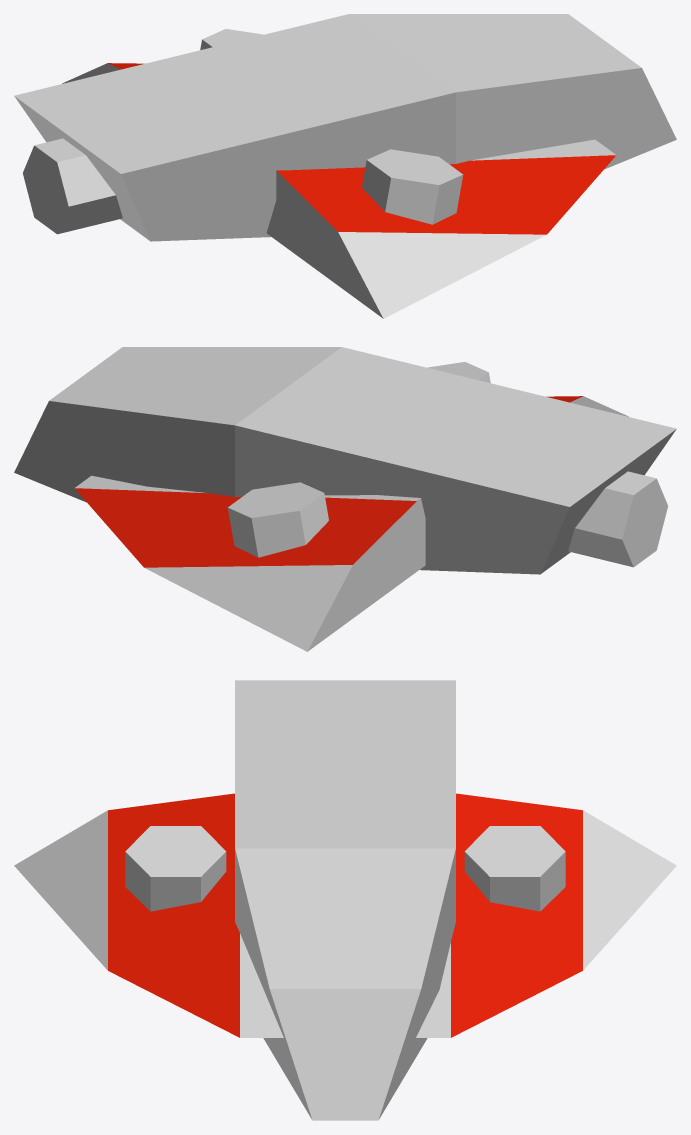
File: enemyVTOL.fbx
The picture shows the model from 3 angles, top to bottom: view 1: azimuth 30°, elevation 25°; view 2: azimuth 150°, elevation 25°; view 3: azimuth 270°, elevation 25°; orthographic projection. The views are drawn at different scales.
Visible parts, largest first — view 1: EnemyVTOL; view 2: EnemyVTOL; view 3: EnemyVTOL.
Part boxes in pixels (left/top/right/bottom): EnemyVTOL: left=14, top=14, right=676, bottom=318; EnemyVTOL: left=14, top=347, right=676, bottom=651; EnemyVTOL: left=14, top=680, right=676, bottom=1120.
Size of the model in its own units: 95.42 by 20.47 by 86.4.
